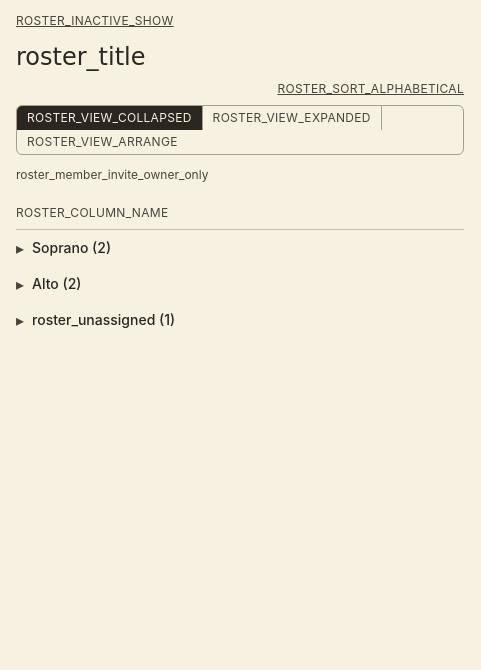
Test: /roster — unassign via Määramata (#470) › a REAL unassign failure (DELETE 403) → the membership NEVER LEFT: the same select is still there, still reading its section, the row never flicked out of its gr
The image size is (481, 670).
Check: the element with test id "roster-groups" is shown, box [16,230,464,338]
Click the button with test id "roster-view-chip-expanded" at (292, 118), box [203,106,382,130]
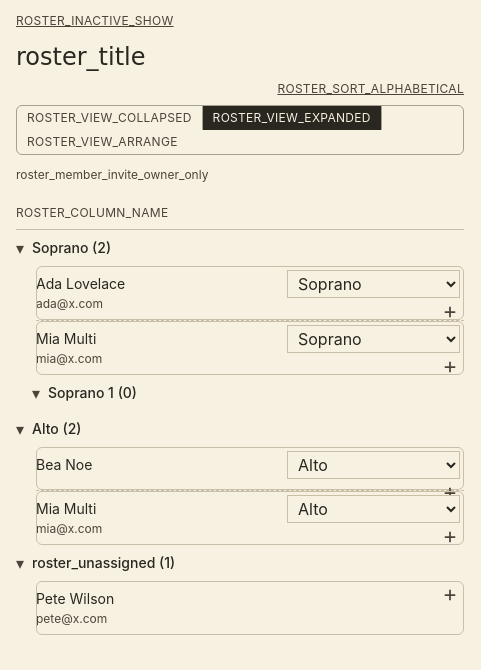
Check: the list item with test id "roster-row-" is shown, box [36,266,464,321]
Select "roster_unassigned" in the dropdown named "roster_section_picker_label {\"name\":\"Ada Lovelace\"}: Soprano" at (374, 284), box [287,270,460,298]
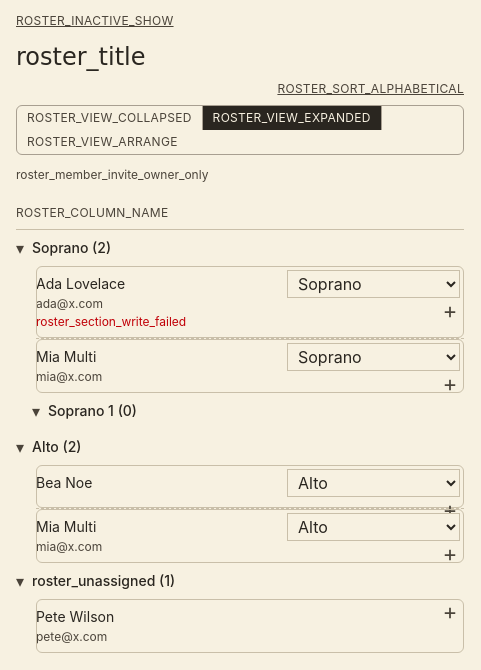
Check: the list item with test id "roster-row-" is shown, box [36,266,464,339]
Check: the message "roster_section_write_failed" is shown, box [36,314,186,329]
